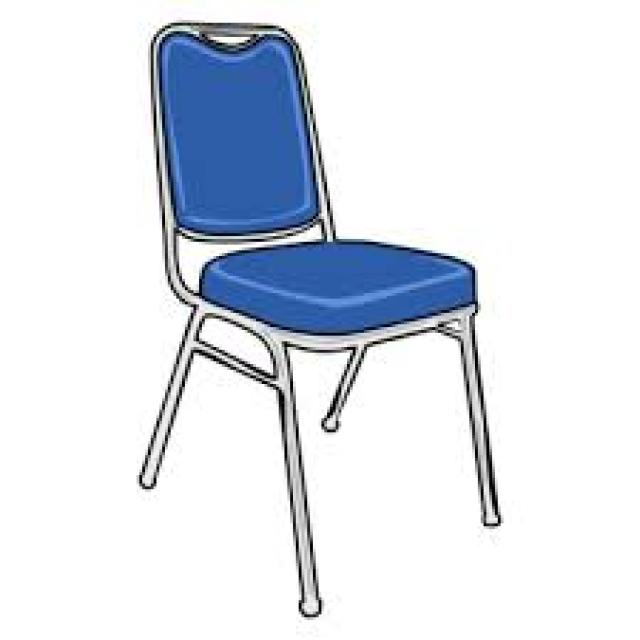chair: (134, 13, 507, 621)
